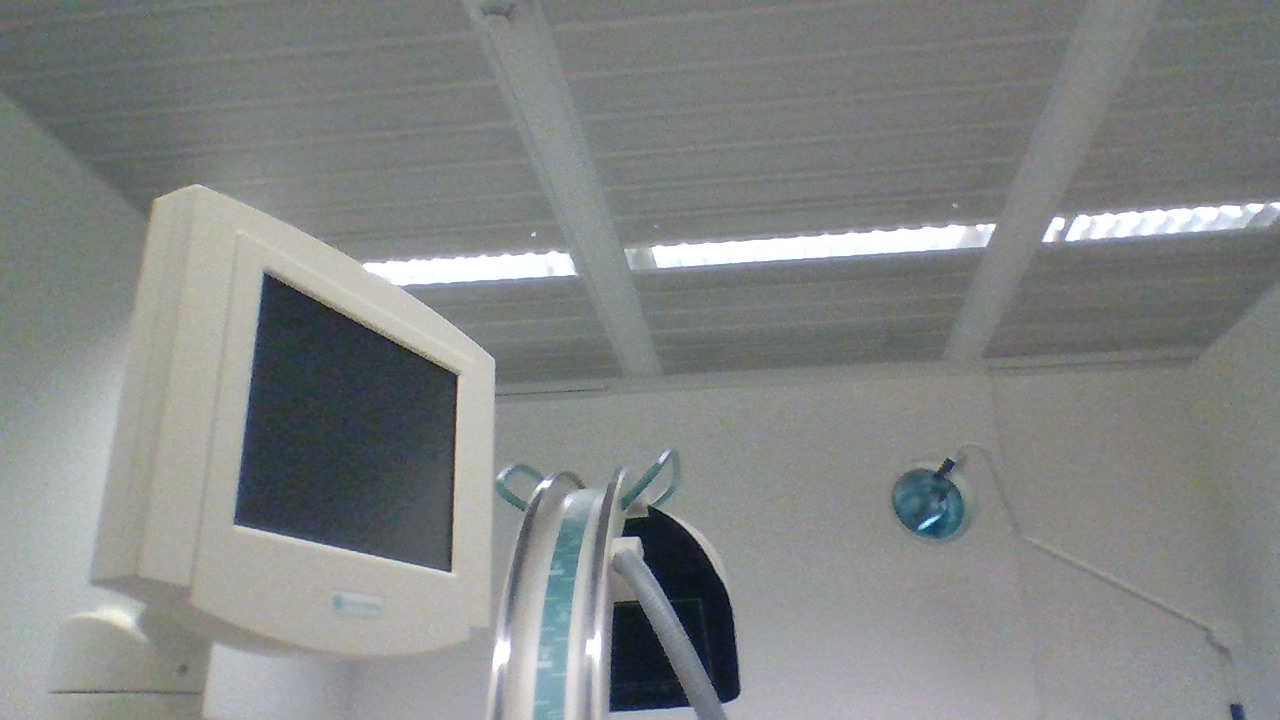carmSCREEN: (87, 182, 499, 660)
carmUP: (524, 498, 742, 713)
